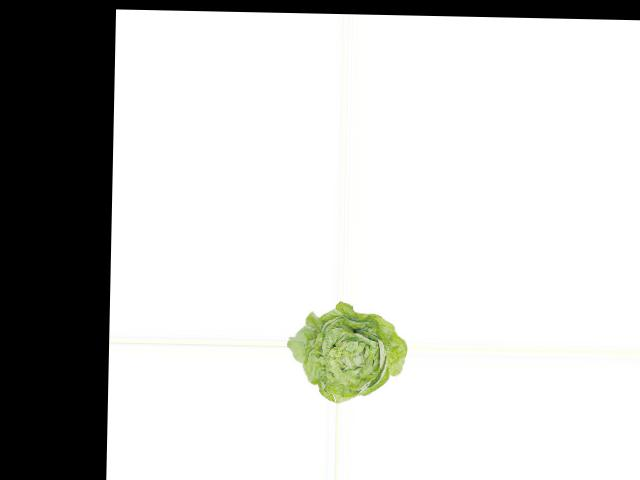lettuce: (289, 300, 409, 403)
